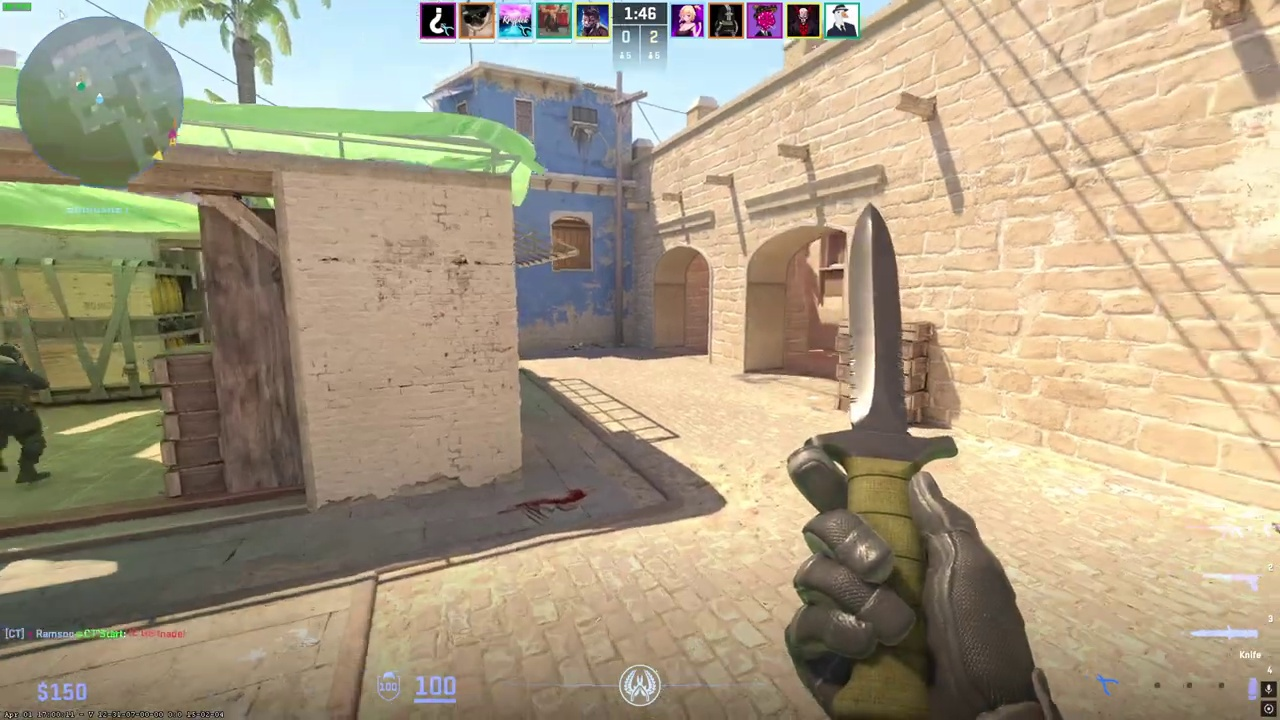CT: (0, 342, 51, 484)
